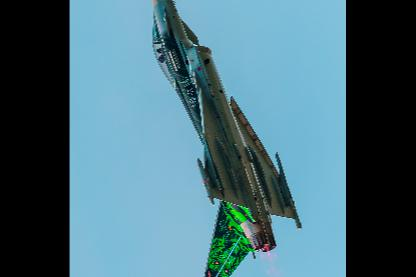E2: (150, 0, 302, 276)
